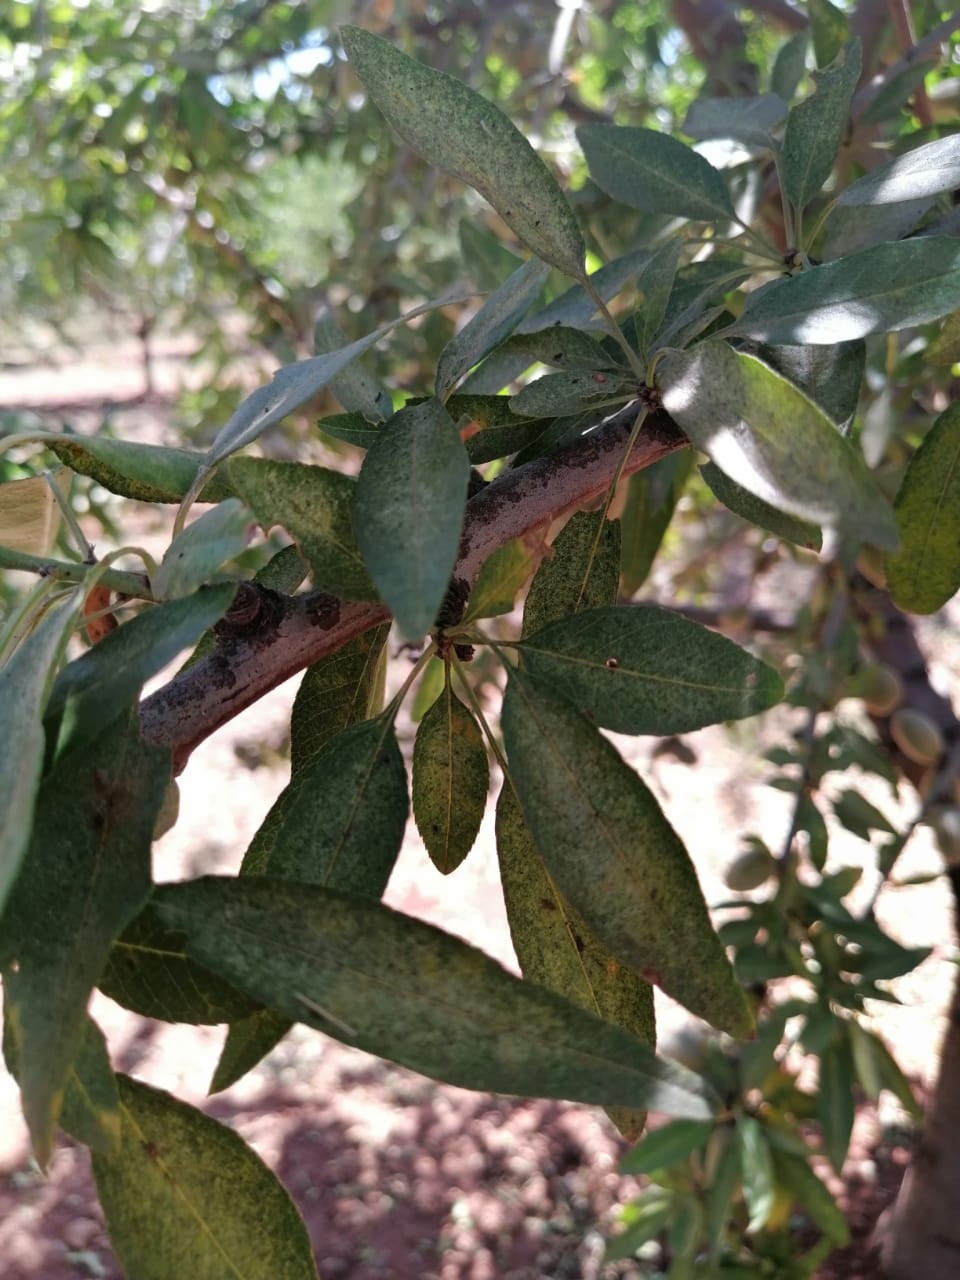acariens: (151, 876, 726, 1119), (502, 665, 764, 1045), (333, 22, 590, 277), (655, 335, 906, 554), (94, 1072, 317, 1280), (515, 604, 788, 740), (352, 399, 471, 646), (776, 35, 864, 213), (411, 688, 491, 875)
